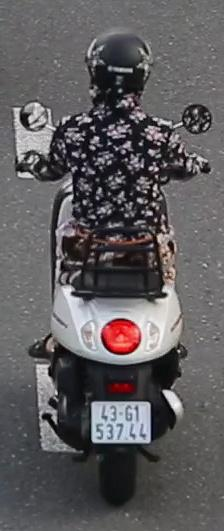LP: (89, 396, 154, 447)
helmet: (85, 28, 153, 119)
